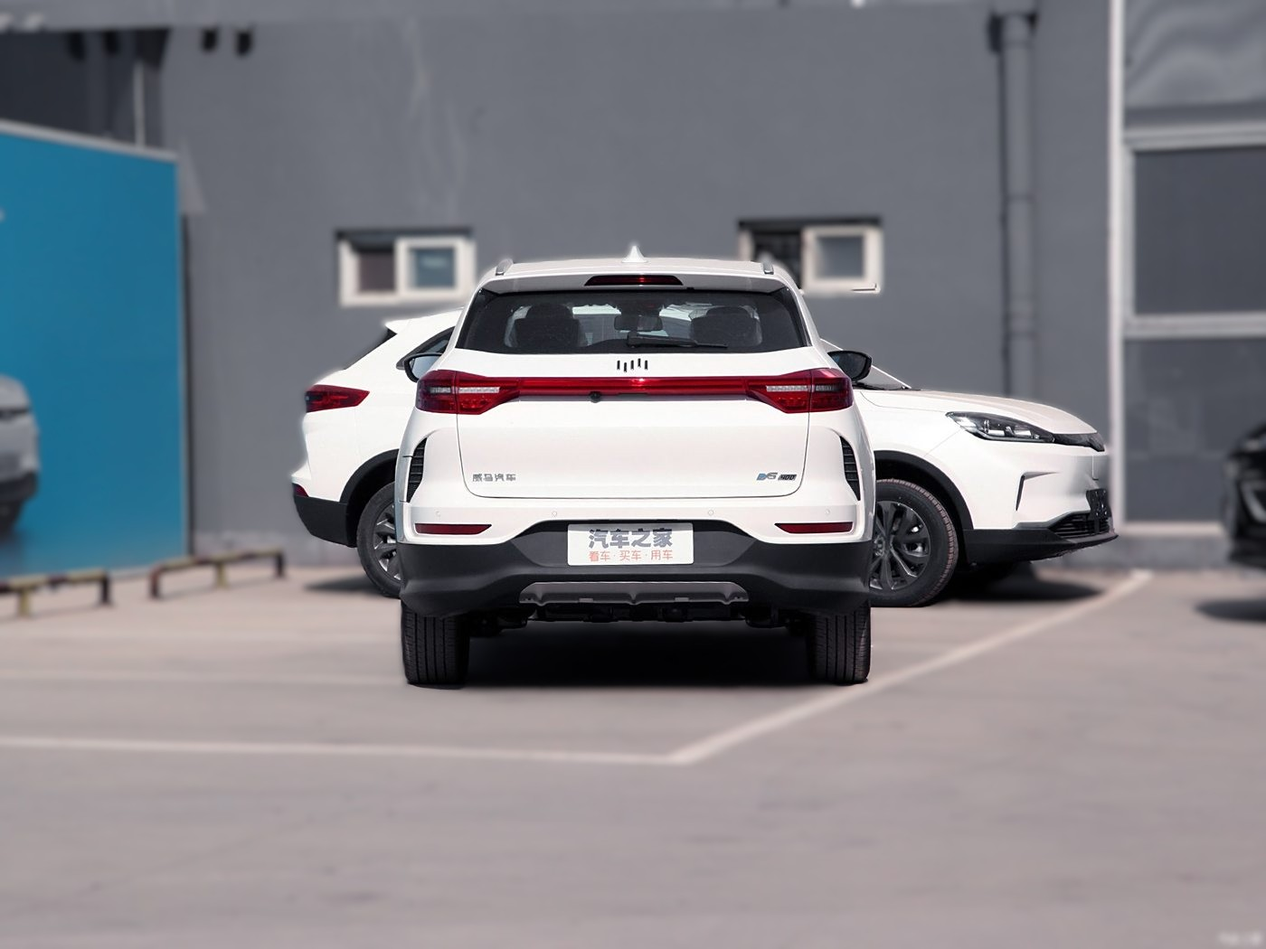WELTMEISTER: (617, 359, 647, 372)
